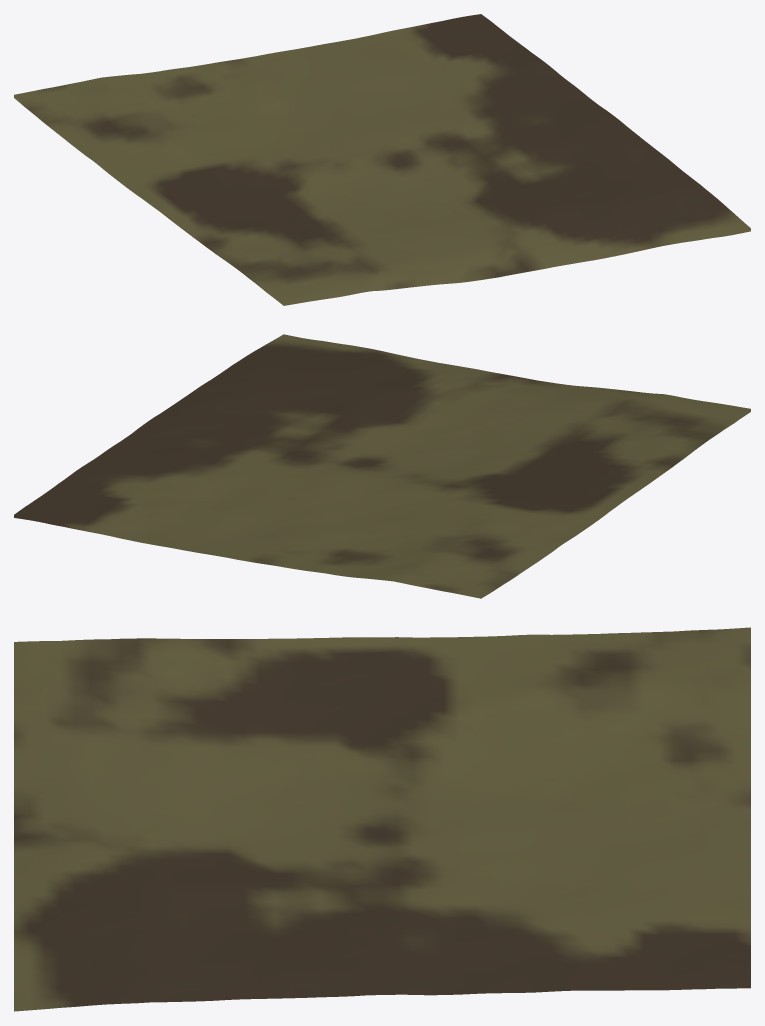
The model's file is land_m_00_01.glb.
3 views of the same model, one above another, from view 1: azimuth 30°, elevation 25°; view 2: azimuth 150°, elevation 25°; view 3: azimuth 270°, elevation 25° (orthographic). The views are drawn at different scales.
Parts seen in each view (by area): view 1: land_m_00_01; view 2: land_m_00_01; view 3: land_m_00_01.
Boxes of the visible parts, x1,y1,x2,y2 form: land_m_00_01: [14, 14, 750, 305]; land_m_00_01: [14, 334, 750, 598]; land_m_00_01: [14, 627, 750, 1011].
Bounding box in the file's own units: 960 × 104 × 960.
